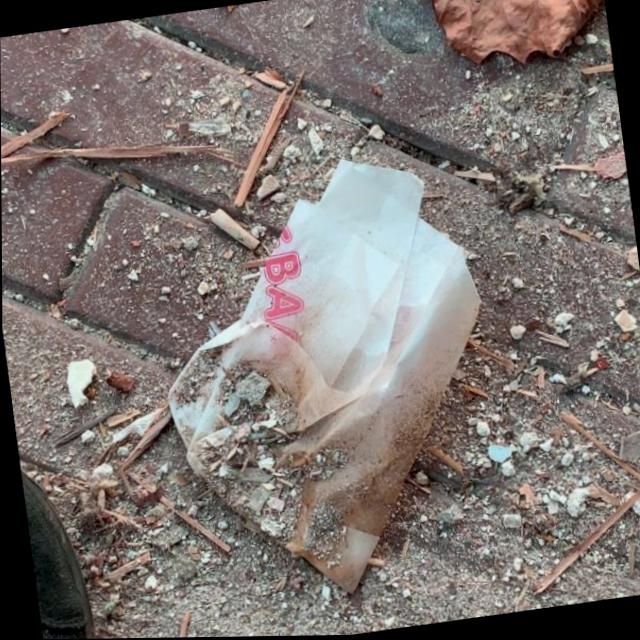Paper: (138, 142, 518, 618)
